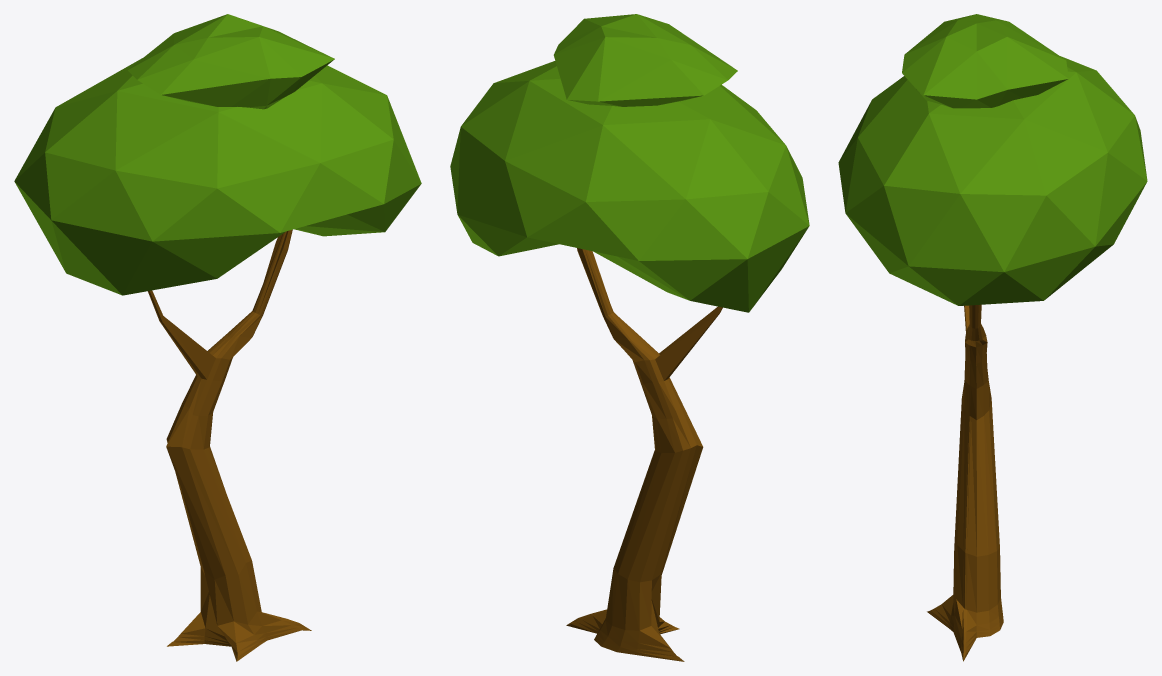
Rendered from tree.glb.
3 renders of one model, left to right at view 1: azimuth 30°, elevation 25°; view 2: azimuth 150°, elevation 25°; view 3: azimuth 270°, elevation 25°, orthographic. The views are drawn at different scales.
Visible parts, largest first — view 1: Tree1.001; view 2: Tree1.001; view 3: Tree1.001.
Part boxes in pixels (left/top/right/bottom): Tree1.001: left=14, top=14, right=421, bottom=661; Tree1.001: left=450, top=14, right=809, bottom=661; Tree1.001: left=838, top=14, right=1147, bottom=661.
Bounding box in the file's own units: 5.46 × 9.3 × 4.37.
